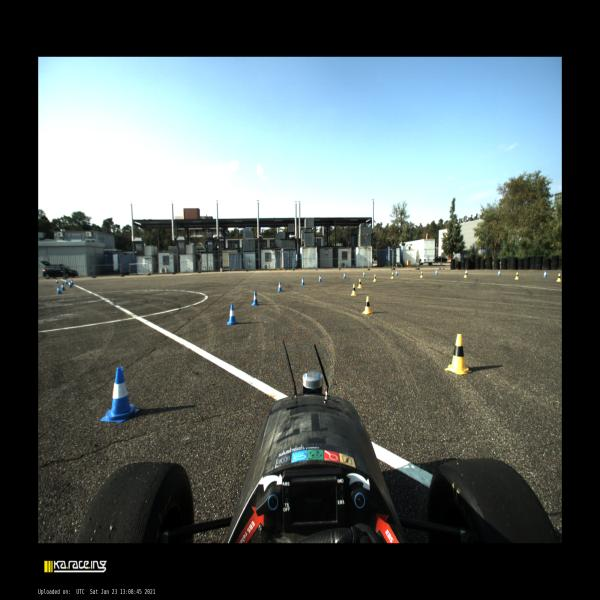blue_cone: (101, 368, 139, 422), (227, 304, 237, 324), (251, 291, 258, 305), (56, 286, 62, 294), (278, 282, 282, 291), (301, 277, 305, 285), (61, 283, 65, 291), (543, 271, 547, 277), (497, 270, 501, 276), (465, 269, 468, 275), (395, 270, 398, 276), (69, 282, 72, 288), (65, 279, 68, 284), (363, 271, 365, 277), (319, 275, 321, 281), (435, 270, 437, 275), (344, 273, 346, 278), (56, 279, 58, 283), (71, 280, 73, 284)
yellow_cone: (445, 334, 472, 373), (363, 296, 371, 314), (351, 284, 356, 296), (556, 273, 562, 282), (514, 272, 519, 280), (358, 279, 361, 288), (373, 274, 376, 282), (464, 272, 467, 278), (420, 271, 422, 278), (391, 272, 393, 279)
